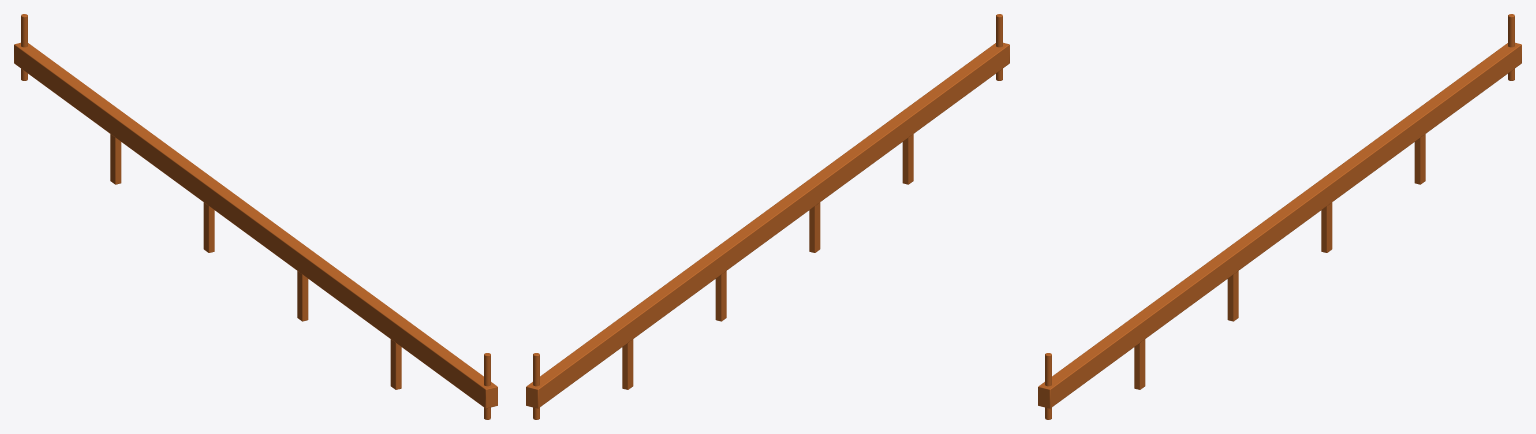
File: stacker_fence.glb
3 renders of one model, left to right at view 1: azimuth 30°, elevation 25°; view 2: azimuth 150°, elevation 25°; view 3: azimuth 330°, elevation 25°, orthographic.
Visible parts, largest first — view 1: PullbackFence; view 2: PullbackFence; view 3: PullbackFence.
Part boxes in pixels (x1,y1,x2,y2): PullbackFence: (14,14,497,419); PullbackFence: (526,14,1009,419); PullbackFence: (1038,14,1521,419).
Size of the model in its own units: 0.08 by 0.621 by 5.3.
